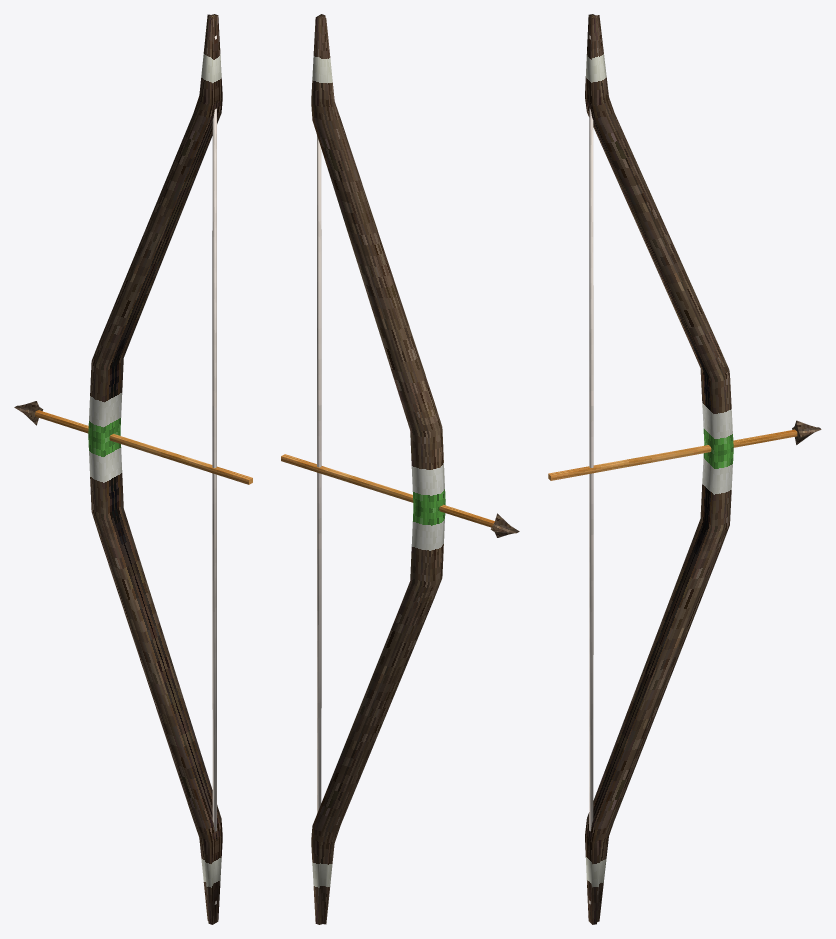
The model's file is BowObject_3d_002.fbx.
3 views of the same model, side by side, from view 1: azimuth 30°, elevation 25°; view 2: azimuth 210°, elevation 25°; view 3: azimuth 270°, elevation 25° (orthographic).
Parts seen in each view (by area): view 1: Cube; view 2: Cube; view 3: Cube.
Boxes of the visible parts, left/top/right/bottom form: Cube: left=14, top=14, right=252, bottom=924; Cube: left=281, top=14, right=519, bottom=924; Cube: left=548, top=14, right=821, bottom=924.
Bounding box in the file's own units: 0.3308 × 2.74 × 0.7489.
